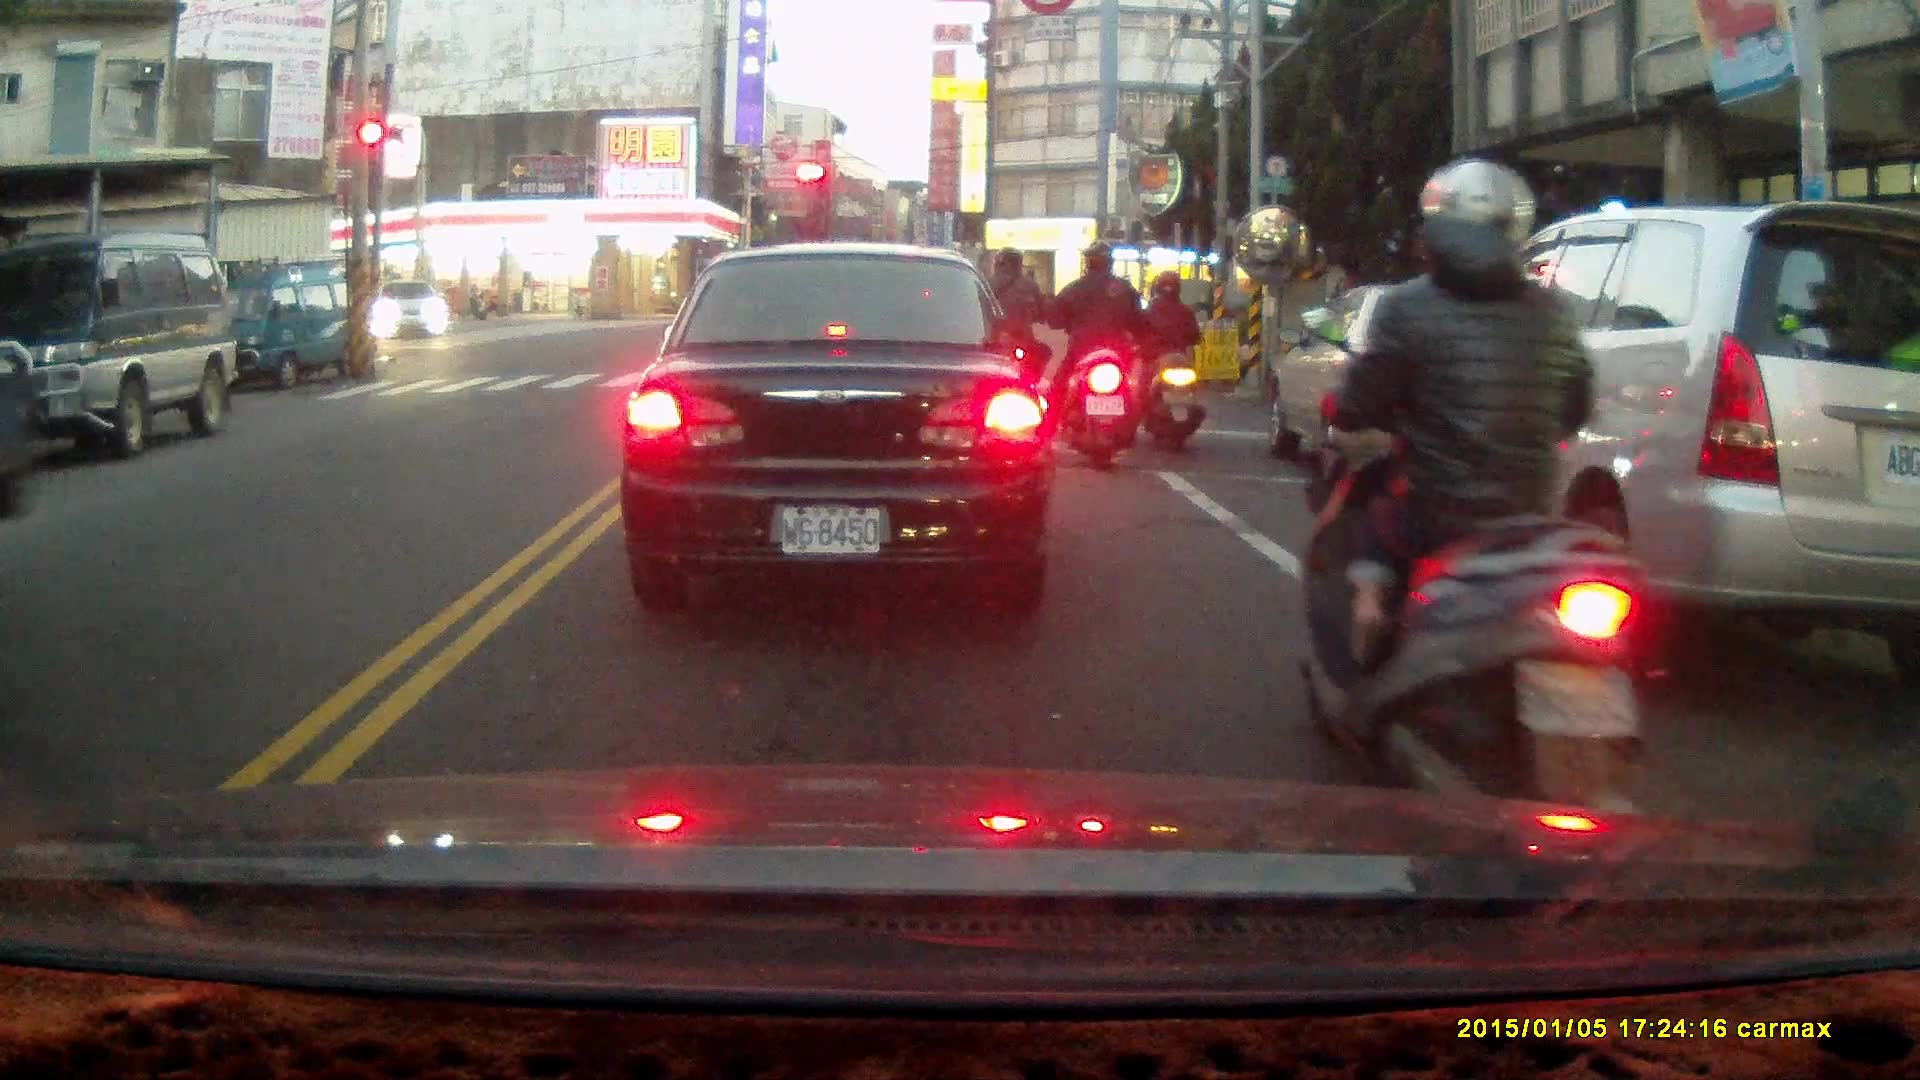rider: (1295, 156, 1648, 865), (1048, 242, 1141, 468), (963, 251, 1049, 432), (1135, 270, 1205, 451)
vehicle: (1377, 198, 1920, 687), (638, 247, 1049, 598), (1264, 286, 1602, 492), (5, 234, 242, 455), (190, 262, 382, 393), (372, 277, 451, 343)
